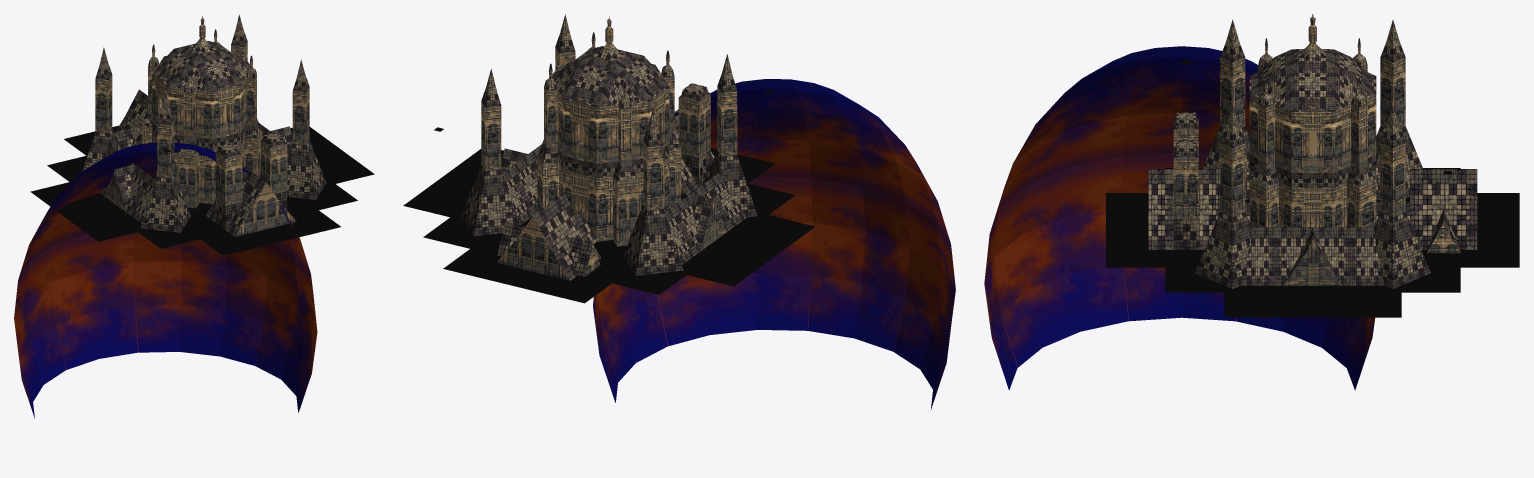
The model's file is MAP101.obj.
3 views of the same model, side by side, from view 1: azimuth 30°, elevation 25°; view 2: azimuth 150°, elevation 25°; view 3: azimuth 270°, elevation 25° (orthographic). The views are drawn at different scales.
Parts seen in each view (by area): view 1: mesh_0, mesh_2, mesh_8, mesh_16, mesh_12, mesh_1, mesh_14, mesh_17, mesh_13, mesh_11, mesh_9, mesh_15 (+2 smaller); view 2: mesh_0, mesh_2, mesh_8, mesh_16, mesh_14, mesh_1, mesh_11, mesh_17, mesh_10, mesh_9, mesh_12, mesh_15 (+3 smaller); view 3: mesh_0, mesh_2, mesh_8, mesh_14, mesh_13, mesh_1, mesh_11, mesh_15, mesh_17, mesh_16, mesh_9, mesh_12 (+3 smaller).
Boxes of the visible parts, <box> form: mesh_0: <box>14,142,317,418</box>; mesh_2: <box>30,125,374,255</box>; mesh_8: <box>142,66,262,208</box>; mesh_16: <box>82,47,190,232</box>; mesh_12: <box>215,141,296,236</box>; mesh_1: <box>152,41,250,91</box>; mesh_14: <box>231,14,326,199</box>; mesh_17: <box>95,75,174,211</box>; mesh_13: <box>206,132,287,236</box>; mesh_11: <box>115,89,147,149</box>; mesh_9: <box>142,114,262,155</box>; mesh_15: <box>231,42,309,145</box>; mesh_0: <box>593,79,955,410</box>; mesh_2: <box>403,148,814,303</box>; mesh_8: <box>537,77,681,246</box>; mesh_16: <box>623,54,757,275</box>; mesh_14: <box>461,14,575,236</box>; mesh_1: <box>552,46,669,107</box>; mesh_11: <box>497,192,601,280</box>; mesh_17: <box>643,87,737,251</box>; mesh_10: <box>496,215,600,280</box>; mesh_9: <box>537,133,680,182</box>; mesh_12: <box>678,94,710,194</box>; mesh_15: <box>481,47,575,171</box>; mesh_0: <box>984,46,1375,390</box>; mesh_2: <box>1106,168,1519,317</box>; mesh_8: <box>1249,65,1376,227</box>; mesh_14: <box>1195,105,1430,288</box>; mesh_13: <box>1148,112,1249,249</box>; mesh_1: <box>1249,49,1376,111</box>; mesh_11: <box>1376,169,1477,252</box>; mesh_15: <box>1220,143,1405,285</box>; mesh_17: <box>1220,57,1405,128</box>; mesh_16: <box>1202,20,1423,199</box>; mesh_9: <box>1249,155,1376,188</box>; mesh_12: <box>1173,129,1198,219</box>.
Size of the model in its own units: 812 by 723 by 812.
5 materials, 5 textured.
